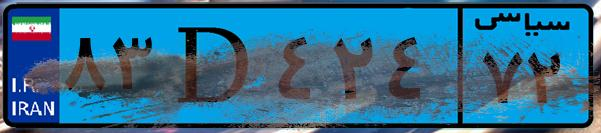2: (330, 28, 385, 110), (525, 38, 570, 115)
3: (110, 28, 158, 98)
4: (270, 28, 330, 110), (385, 28, 445, 110)
7: (475, 38, 525, 113)
8: (57, 26, 110, 100)
D: (158, 12, 270, 120)
